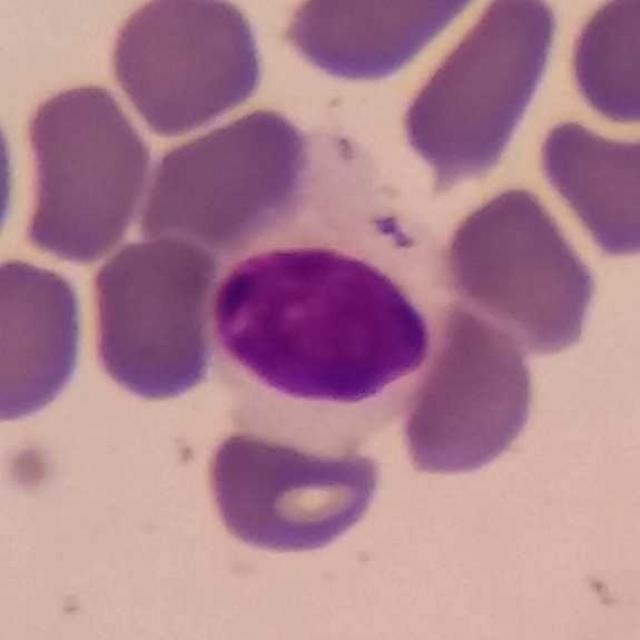Lymphocyte: (204, 127, 461, 457)
RBC: (394, 0, 564, 185), (435, 180, 603, 358), (13, 76, 156, 265), (136, 102, 317, 250), (395, 302, 542, 483), (200, 424, 388, 559), (84, 233, 224, 406), (103, 0, 270, 137), (275, 0, 493, 87), (532, 103, 640, 264), (0, 252, 91, 429), (562, 0, 640, 130)
